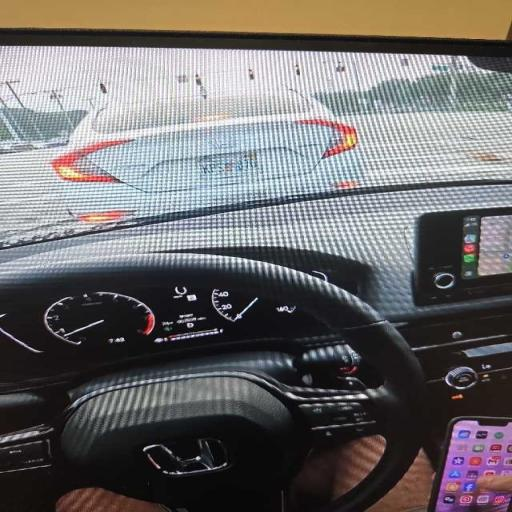car: (0, 30, 511, 511), (52, 89, 362, 219)
lane: (340, 112, 511, 185)
